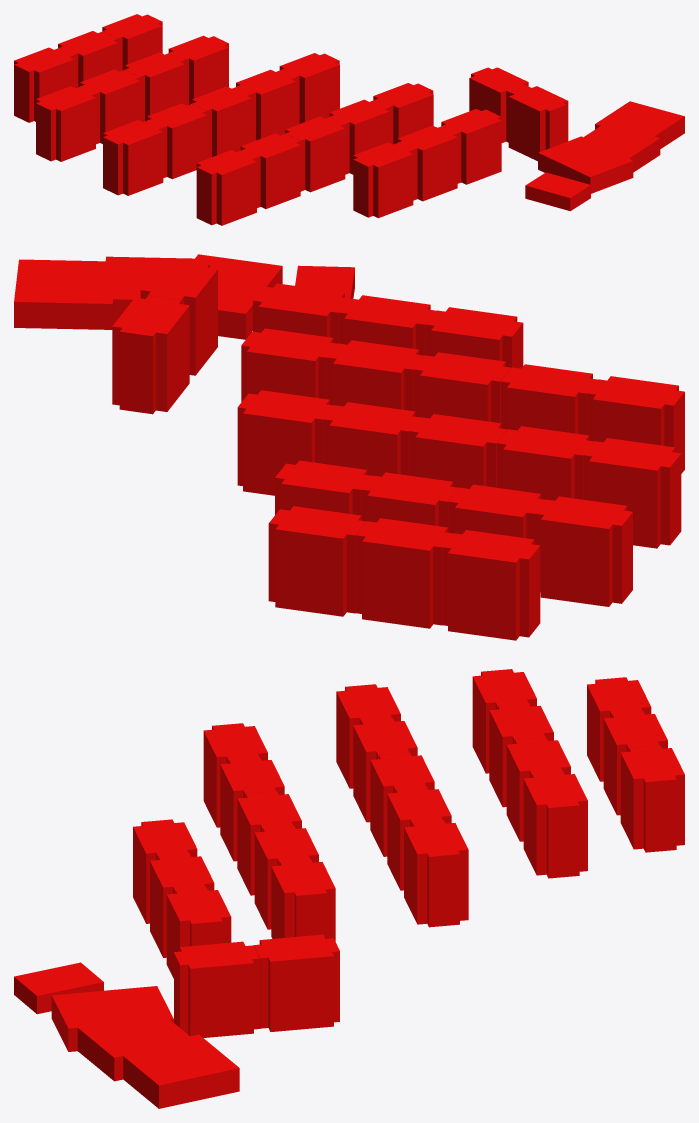
File: PDV_Dummy_General.fbx
3 renders of one model, top to bottom at view 1: azimuth 30°, elevation 25°; view 2: azimuth 150°, elevation 25°; view 3: azimuth 270°, elevation 25°, orthographic. The views are drawn at different scales.
Visible parts, largest first — view 1: Cube_23, Cube_2, Cube_9, Cube_3, Cube_4, Cube_14, Cube_8, Cube_7, Cube_18, Cube_1, Cube_13, Cube_10 (+35 smaller); view 2: Cube_18, Cube_19, Cube_21, Cube_20, Cube__2_, Cube_10, Cube_14, Cube, Cube_12, Cube_13, Cube_11, Cube_5 (+35 smaller); view 3: Cube, Cube_1, Cube__2_, Cube_23, Cube_10, Cube_15, Cube_19, Cube__1__22, Cube_5, Cube_14, Cube_8, Cube_17 (+21 smaller).
Part boxes in pixels (box(x1,y1,x2,y2)): Cube_23: box(538, 136, 633, 193); Cube_2: box(441, 109, 501, 184); Cube_9: box(196, 150, 256, 225); Cube_3: box(397, 125, 457, 201); Cube_4: box(353, 142, 413, 218); Cube_14: box(103, 120, 163, 195); Cube_8: box(240, 133, 300, 208); Cube_7: box(285, 116, 345, 192); Cube_18: box(36, 86, 95, 161); Cube_1: box(508, 86, 568, 161); Cube_13: box(147, 103, 206, 179); Cube_10: box(279, 53, 339, 123); Cube_18: box(540, 496, 627, 606); Cube_19: box(275, 506, 361, 616); Cube_21: box(448, 530, 534, 640); Cube_20: box(362, 518, 447, 628); Cube__2_: box(14, 259, 117, 329); Cube_10: box(243, 390, 329, 495); Cube_14: box(589, 438, 675, 548); Cube: box(112, 297, 189, 411); Cube_12: box(415, 414, 501, 488); Cube_13: box(503, 426, 589, 500); Cube_11: box(329, 402, 415, 476); Cube_5: box(246, 328, 333, 397); Cube: box(259, 934, 333, 1031); Cube_1: box(179, 941, 253, 1037); Cube__2_: box(123, 1034, 239, 1108); Cube_23: box(51, 986, 173, 1051); Cube_10: box(404, 823, 468, 924); Cube_15: box(523, 774, 587, 875); Cube_19: box(620, 748, 684, 849); Cube__1__22: box(77, 1019, 190, 1081); Cube_5: box(271, 861, 335, 941); Cube_14: box(336, 687, 400, 788); Cube_8: box(220, 760, 284, 861); Cube_17: box(489, 705, 553, 807).
Size of the model in its own units: 17977 by 2251 by 14490.
